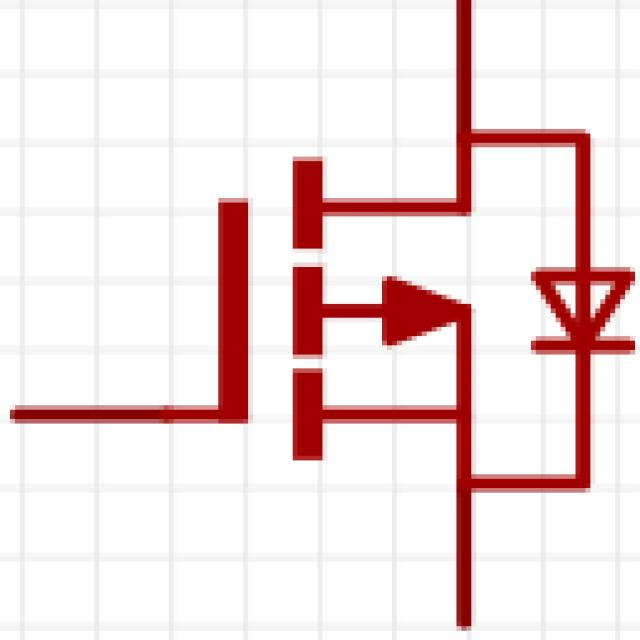pmos: (7, 10, 640, 621)
